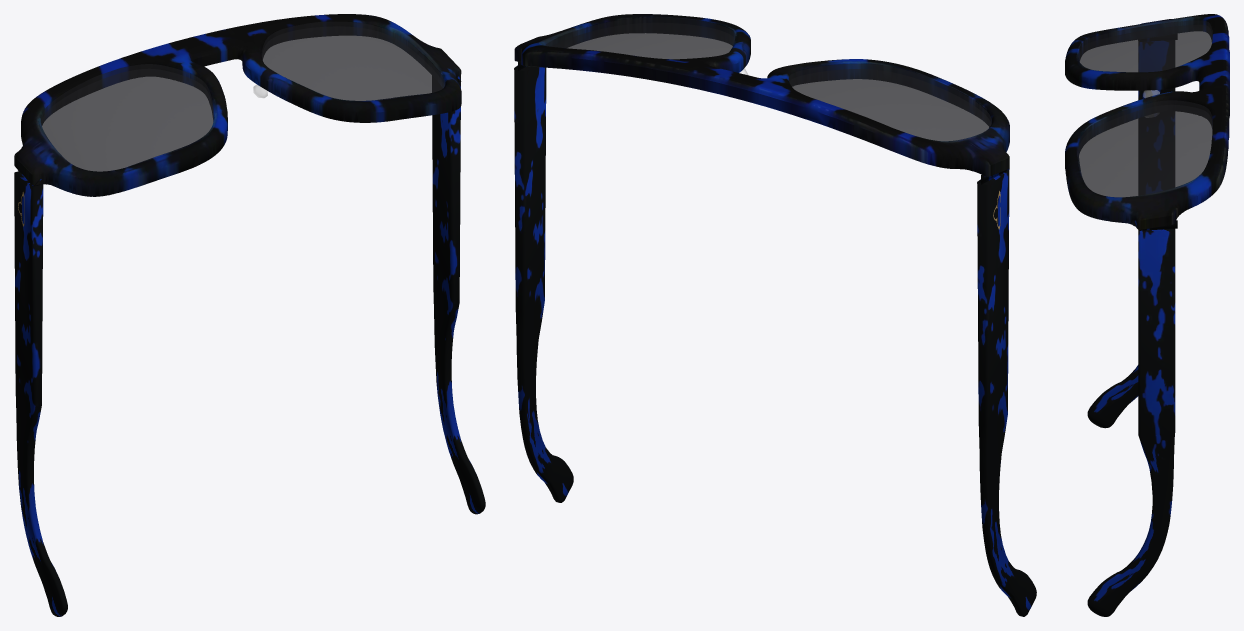
3 renders of one model, left to right at view 1: azimuth 30°, elevation 25°; view 2: azimuth 150°, elevation 25°; view 3: azimuth 270°, elevation 25°, orthographic. The views are drawn at different scales.
Parts seen in each view (by area): view 1: F01 front, F01 lens 0, F01 lens 1, F01 temple 0, F01 temple 1; view 2: F01 front, F01 temple 0, F01 temple 1, F01 lens 0, F01 lens 1; view 3: F01 front, F01 temple 1, F01 lens 1, F01 temple 0, F01 lens 0.
Part boxes in pixels (x1=…): F01 front: x1=14, y1=14, x2=461, y2=196; F01 lens 0: x1=41, y1=64, x2=213, y2=171; F01 lens 1: x1=261, y1=21, x2=445, y2=100; F01 temple 0: x1=14, y1=171, x2=67, y2=616; F01 temple 1: x1=432, y1=76, x2=485, y2=514; F01 front: x1=514, y1=14, x2=1009, y2=176; F01 temple 0: x1=977, y1=170, x2=1036, y2=616; F01 temple 1: x1=514, y1=65, x2=573, y2=502; F01 lens 0: x1=788, y1=63, x2=991, y2=141; F01 lens 1: x1=545, y1=17, x2=735, y2=59; F01 front: x1=1065, y1=14, x2=1229, y2=229; F01 temple 1: x1=1087, y1=228, x2=1175, y2=616; F01 lens 1: x1=1078, y1=100, x2=1212, y2=197; F01 temple 0: x1=1087, y1=40, x2=1175, y2=428; F01 lens 0: x1=1078, y1=20, x2=1212, y2=72.
Bounding box in the file's own units: 0.1503 × 0.1614 × 0.0538.
Materials: 6 (2 with a texture image).
